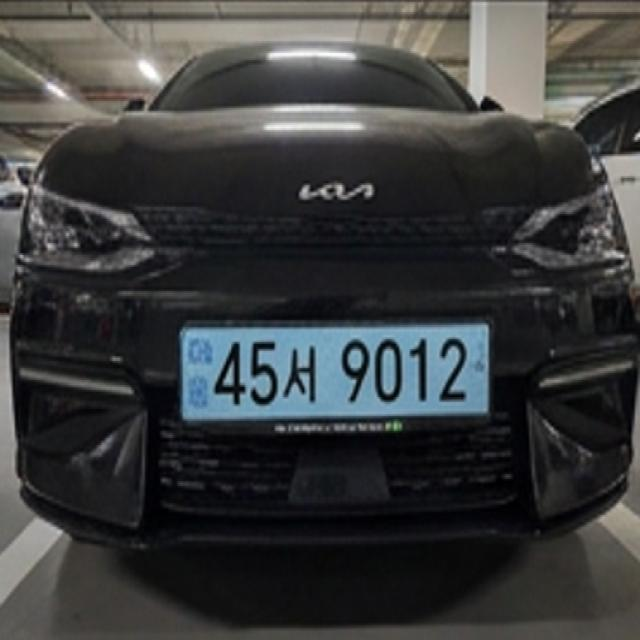car: (157, 312, 518, 453)
carev: (184, 322, 215, 421), (467, 324, 491, 418)
